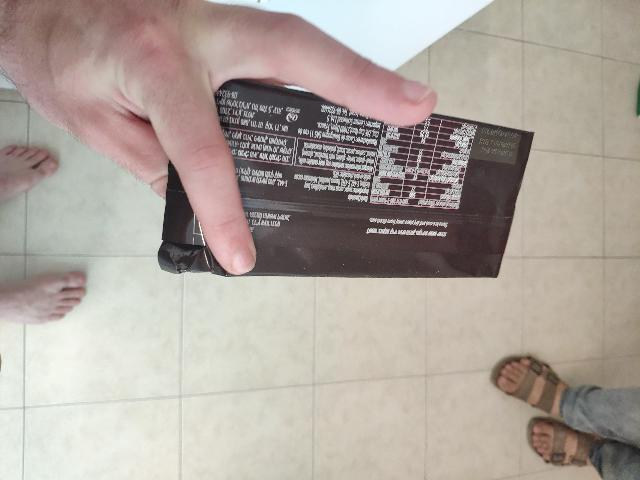chocolate: (227, 78, 453, 480)
